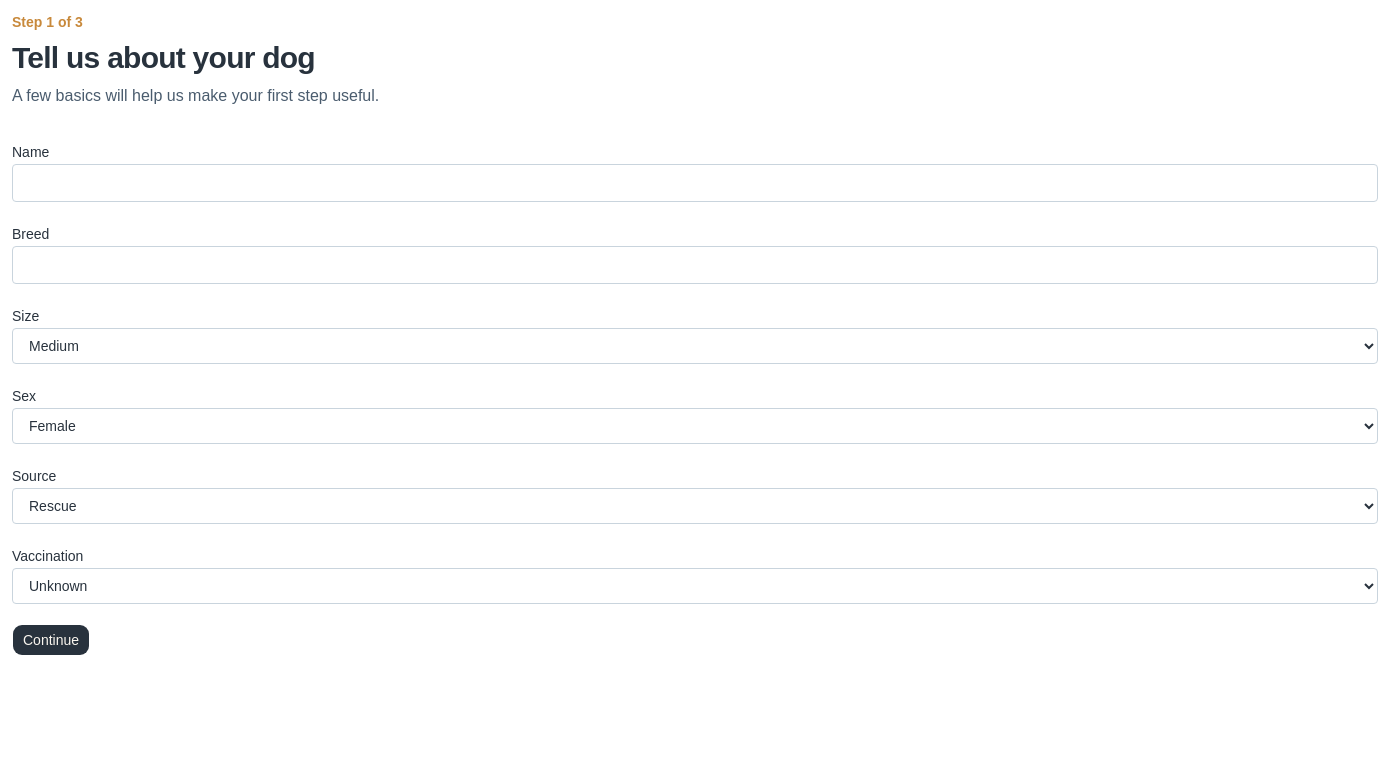
it: GuidedSetup › retains basics values and shows a localized error when start is rejected
The width and height of the screenshot is (1390, 780).
Type "Biscuit" into the field labelled "Name" at (695, 183), box [12,164,1378,202]
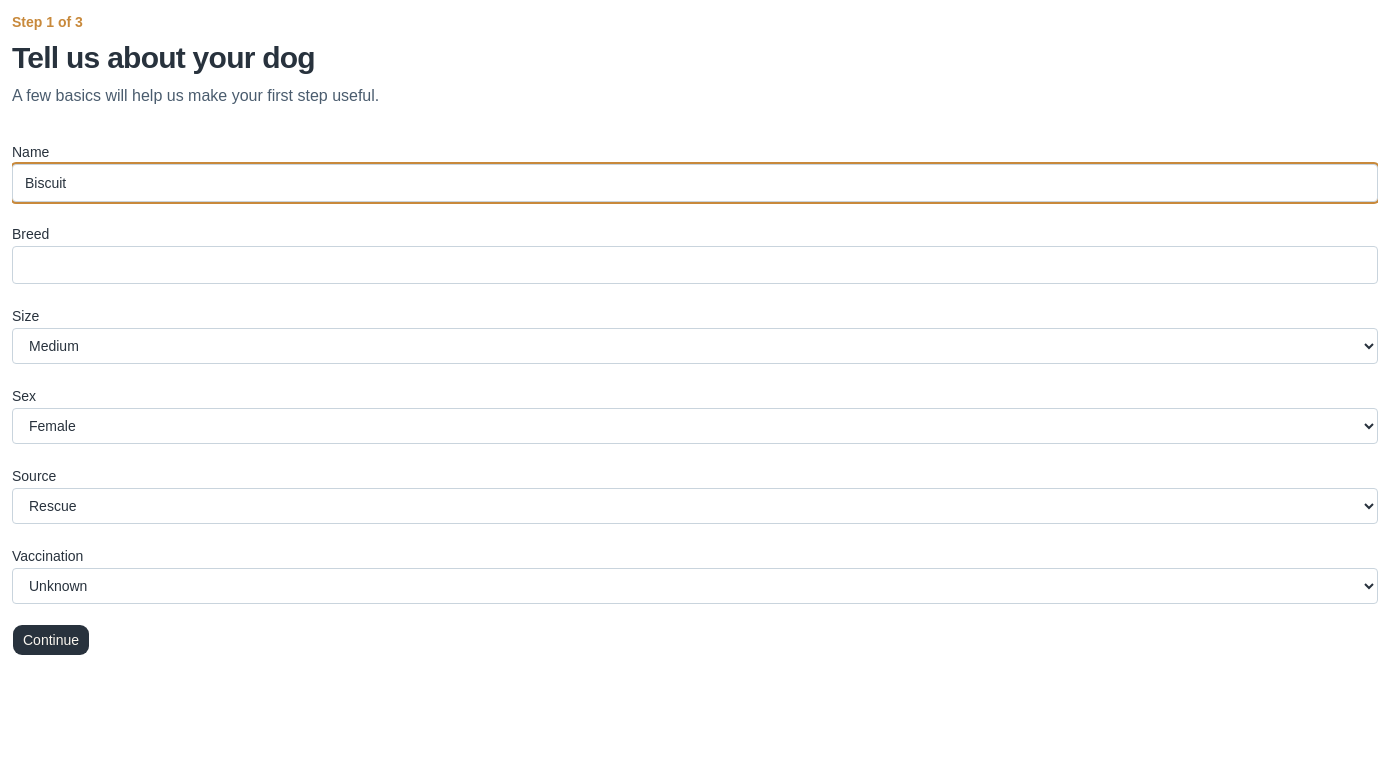
Click the button "Continue" at (51, 640), box [12,624,90,656]
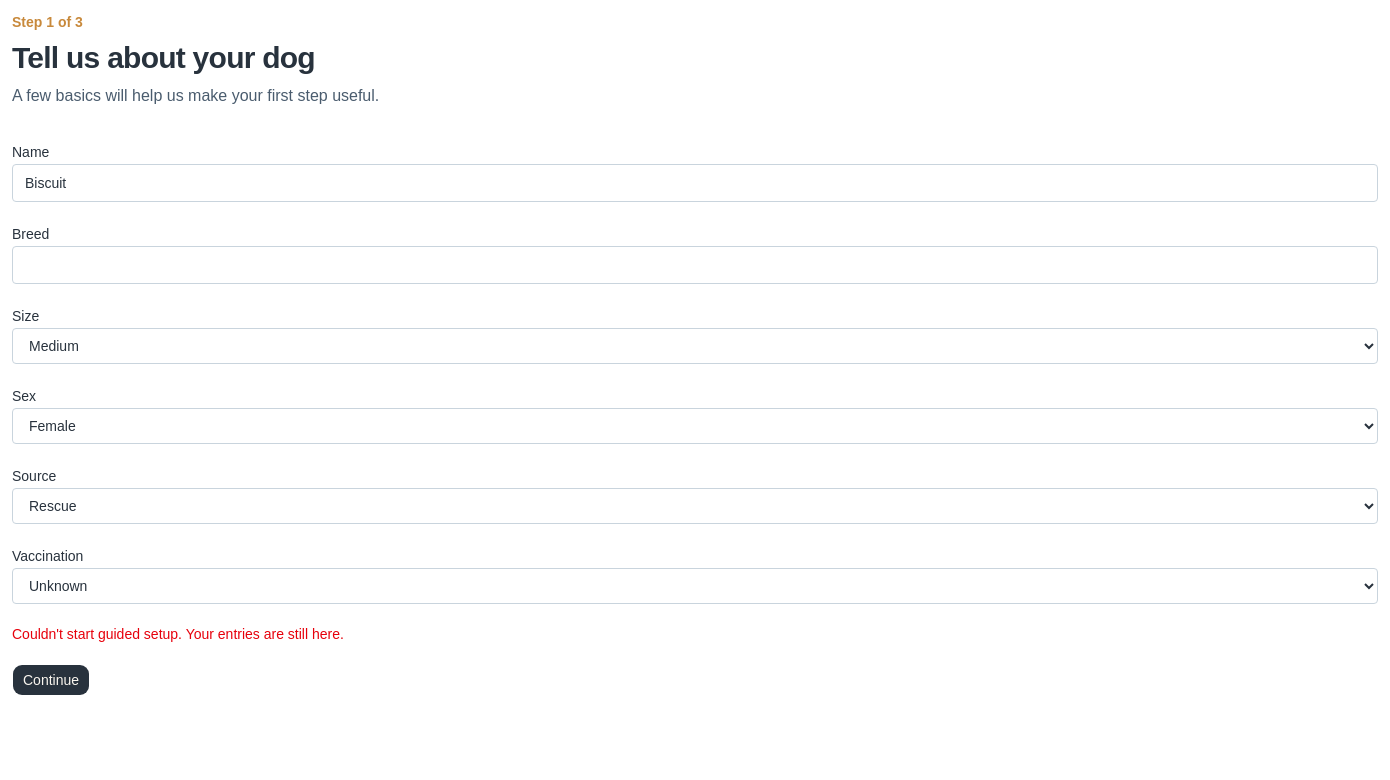
Expected: the message shows "Couldn't start", [12,626,344,642]
